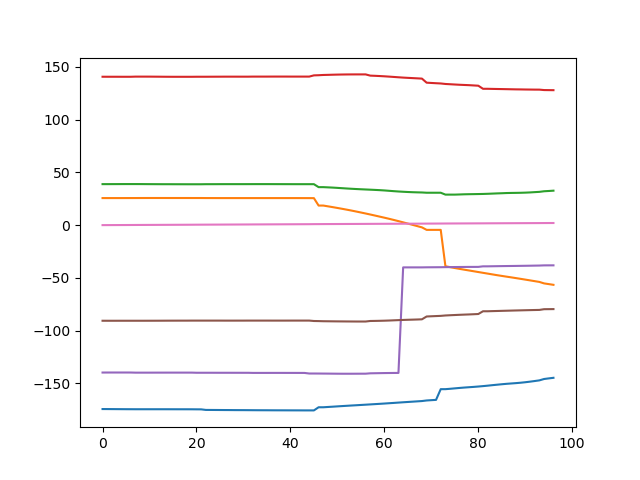Good_Bicep_Curl: (1, 3, 639, 480)
